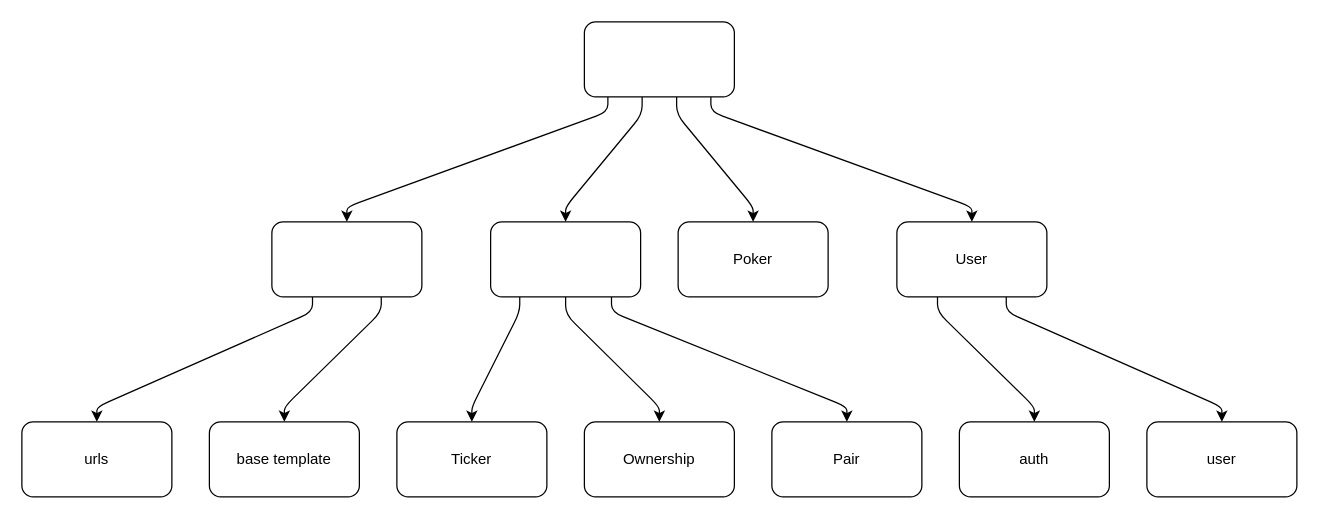
Some shapes in this 1319 by 519 pixel diagram are drawn without their labels. The shapes that lost their labels are listed below. From the top down, each one's box as (x1, y1, x2, y2) in pixels, then its label:
(583, 21, 734, 97): Django
(271, 221, 422, 297): Core
(489, 221, 641, 297): Exchange
